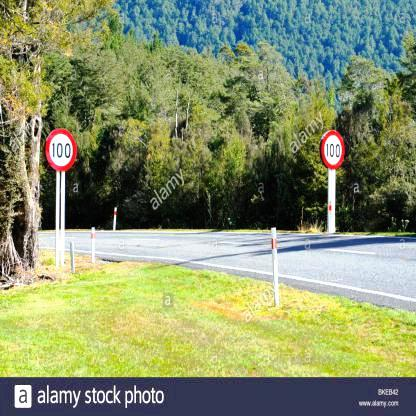Speed Limit -100-: (42, 127, 78, 172), (314, 128, 348, 170)
